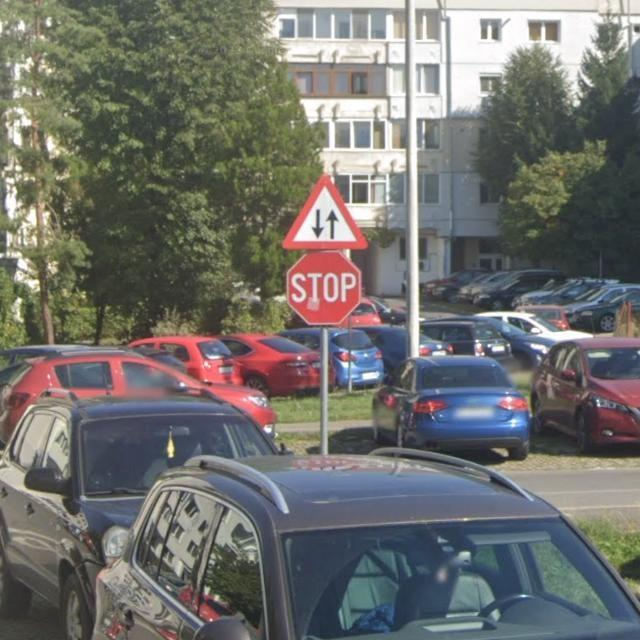prio_stop: (284, 251, 362, 325)
